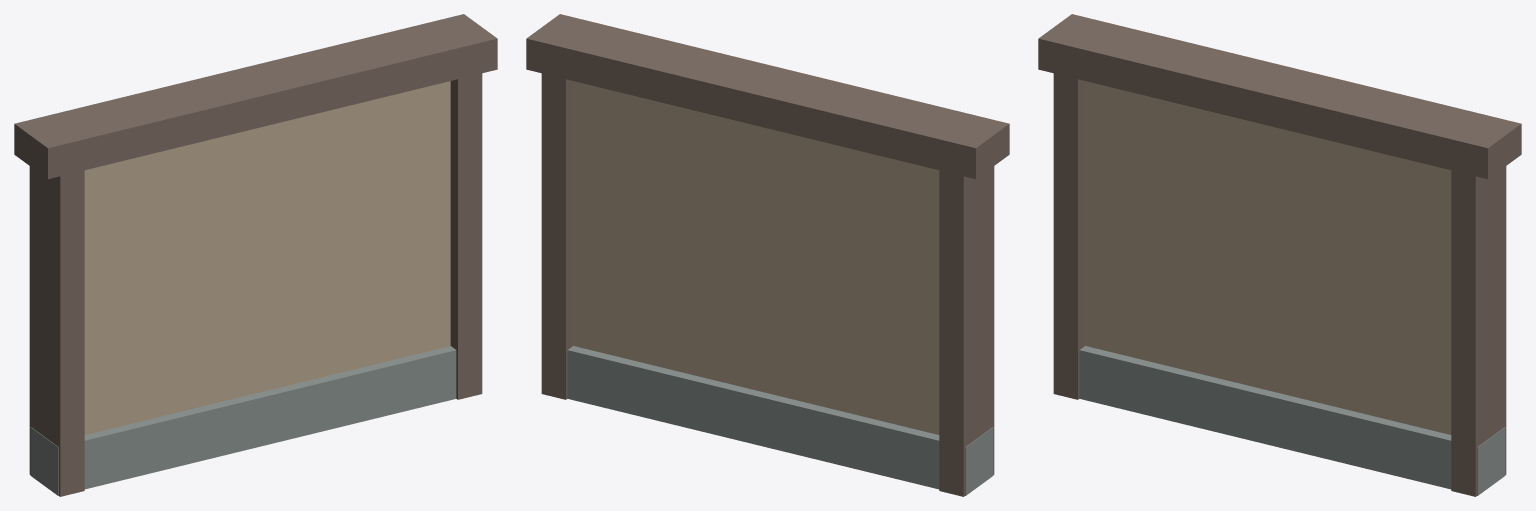
Rendered from parede_reboco_ocre.glb.
3 renders of one model, left to right at view 1: azimuth 30°, elevation 25°; view 2: azimuth 150°, elevation 25°; view 3: azimuth 330°, elevation 25°, orthographic.
Visible parts, largest first — view 1: parede_reboco_ocre_part_001, parede_reboco_ocre_part_004, parede_reboco_ocre_part_000, parede_reboco_ocre_part_002, parede_reboco_ocre_part_003; view 2: parede_reboco_ocre_part_001, parede_reboco_ocre_part_004, parede_reboco_ocre_part_000, parede_reboco_ocre_part_002, parede_reboco_ocre_part_003; view 3: parede_reboco_ocre_part_001, parede_reboco_ocre_part_004, parede_reboco_ocre_part_000, parede_reboco_ocre_part_003, parede_reboco_ocre_part_002.
Boxes of the visible parts, box(x1,y1,x2,y2) form: parede_reboco_ocre_part_001: box(84, 81, 450, 434); parede_reboco_ocre_part_004: box(14, 14, 497, 179); parede_reboco_ocre_part_000: box(30, 346, 456, 495); parede_reboco_ocre_part_002: box(29, 166, 84, 496); parede_reboco_ocre_part_003: box(450, 73, 482, 399); parede_reboco_ocre_part_001: box(573, 81, 939, 434); parede_reboco_ocre_part_004: box(526, 14, 1009, 179); parede_reboco_ocre_part_000: box(567, 346, 993, 495); parede_reboco_ocre_part_002: box(939, 166, 994, 496); parede_reboco_ocre_part_003: box(541, 73, 573, 399); parede_reboco_ocre_part_001: box(1085, 81, 1451, 434); parede_reboco_ocre_part_004: box(1038, 14, 1521, 179); parede_reboco_ocre_part_000: box(1079, 346, 1505, 495); parede_reboco_ocre_part_003: box(1451, 166, 1506, 496); parede_reboco_ocre_part_002: box(1053, 73, 1085, 399).
Bounding box in the file's own units: 4.25 × 3.19 × 0.55.
